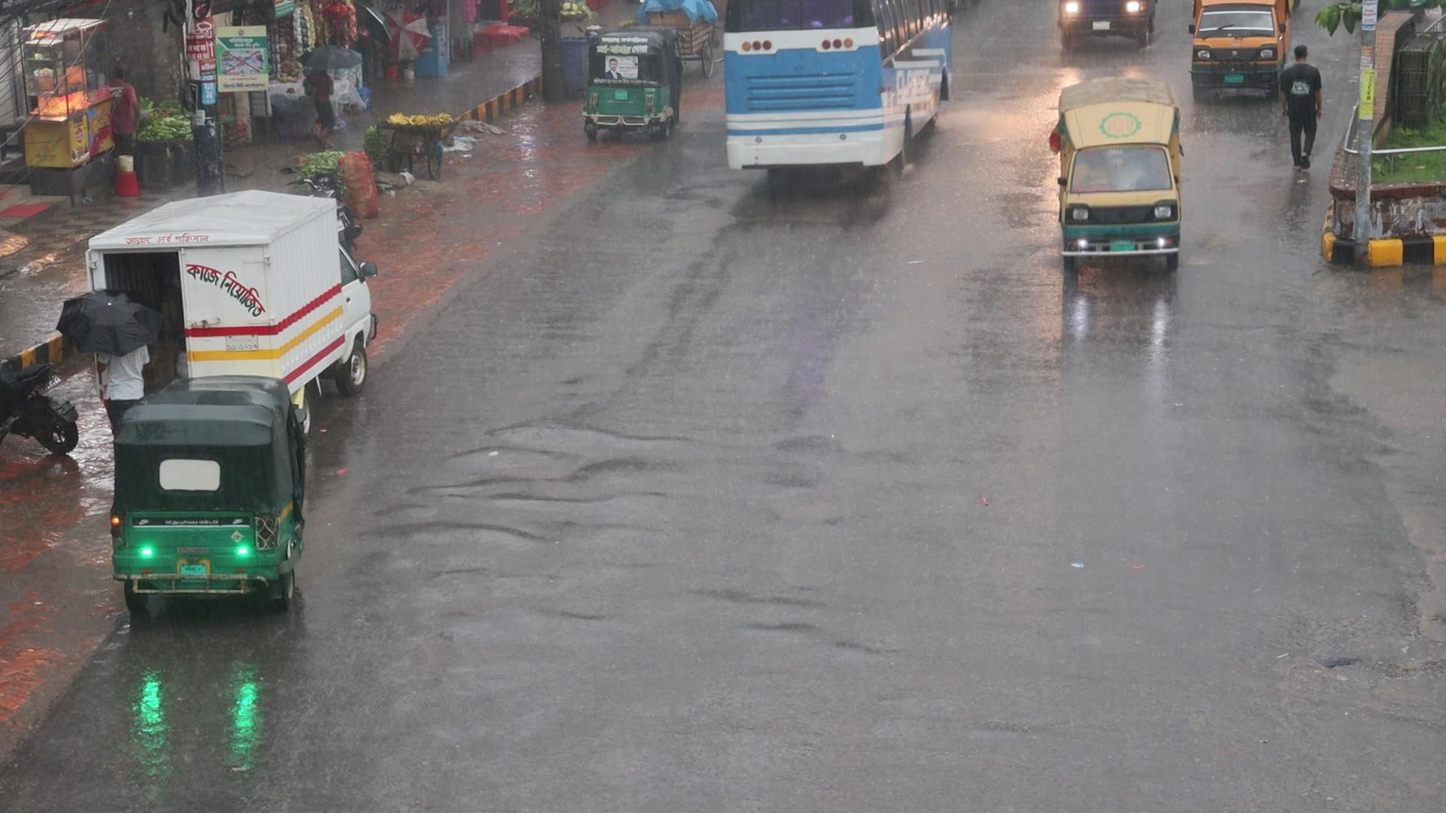Bus: (721, 6, 957, 197)
Truck: (1049, 74, 1183, 281), (1192, 3, 1292, 102)
